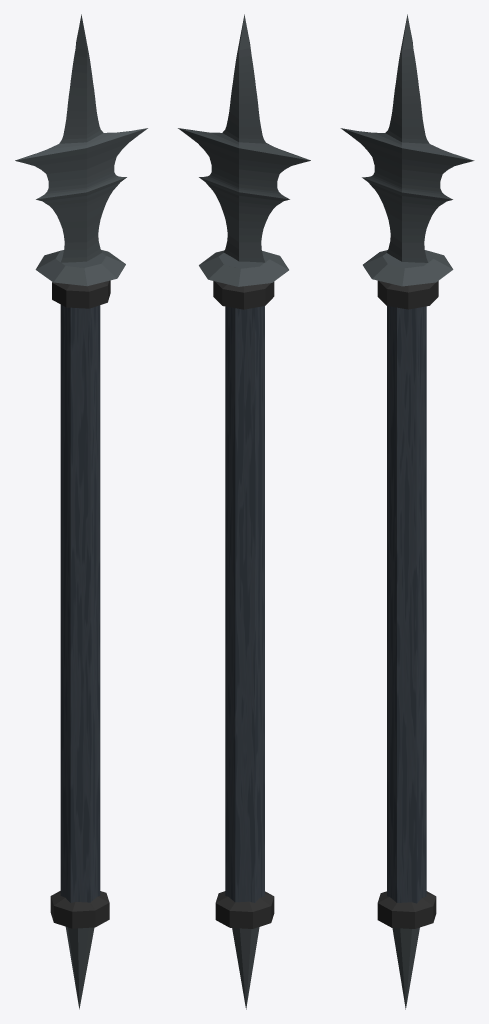
The model's file is spear.fbx.
The picture shows the model from 3 angles, left to right: view 1: azimuth 30°, elevation 25°; view 2: azimuth 150°, elevation 25°; view 3: azimuth 330°, elevation 25°; orthographic projection.
Visible parts, largest first — view 1: Circle, Cube.003, Circle.002, Circle.003, Circle.001, Cone; view 2: Circle, Cube.003, Circle.002, Circle.003, Circle.001, Cone; view 3: Circle, Cube.003, Circle.002, Circle.003, Circle.001, Cone.
Part boxes in pixels (x1,y1,x2,y2): Circle: (60,305,100,902); Cube.003: (15,14,147,262); Circle.002: (35,250,125,286); Circle.003: (50,891,109,928); Circle.001: (52,280,110,308); Cone: (65,927,94,1009); Circle: (225,306,264,902); Cube.003: (178,14,310,262); Circle.002: (199,250,288,286); Circle.003: (215,891,274,928); Circle.001: (213,281,274,309); Cone: (232,927,259,1009); Circle: (387,306,426,903); Cube.003: (340,14,474,262); Circle.002: (363,250,453,286); Circle.003: (377,891,436,928); Circle.001: (377,280,438,309); Cone: (392,927,419,1009).
Bounding box in the file's own units: 784 × 5558 × 430.
